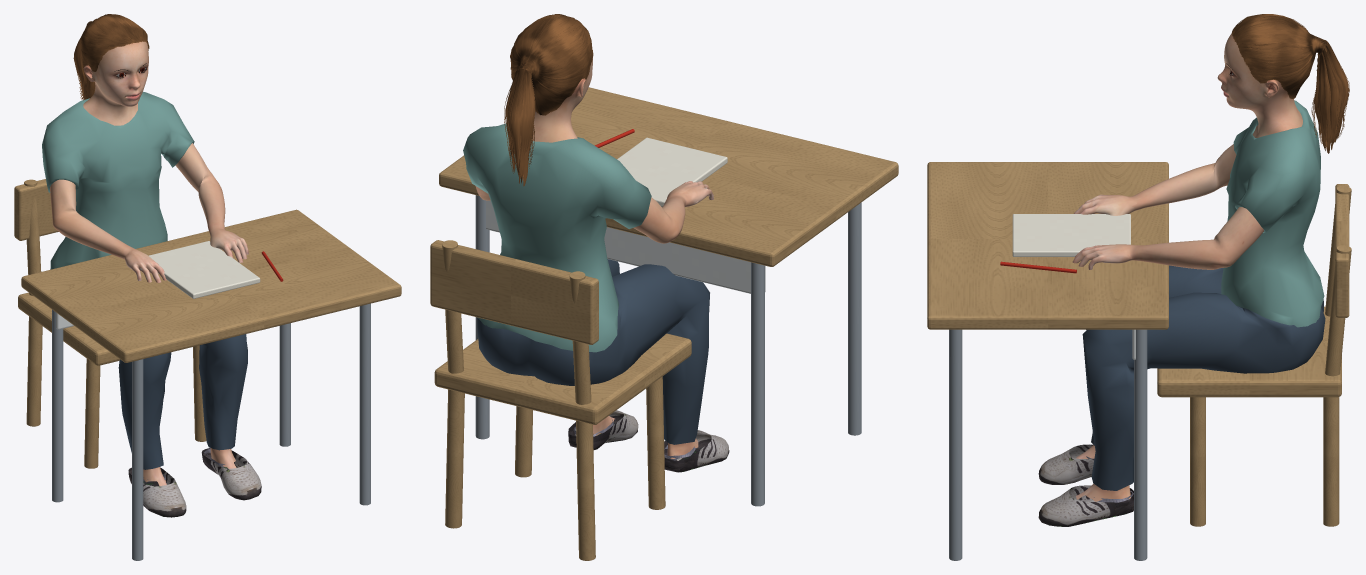
Rendered from leah-3d-person-child-age-10-seated-at-desk.glb.
3 views of the same model, side by side, from view 1: azimuth 30°, elevation 25°; view 2: azimuth 150°, elevation 25°; view 3: azimuth 270°, elevation 25° (orthographic). The views are drawn at different scales.
Parts seen in each view (by area): view 1: School desk | original rounded writing top, female_casualsuit01, Leah | anatomical body, School desk | exercise book, shoes05, ponytail01, School desk | steel leg, School desk | steel leg.002, School desk | steel leg.001, Child chair | rounded seat, Child chair | curved back panel, Child chair | timber leg (+4 smaller); view 2: female_casualsuit01, School desk | original rounded writing top, Child chair | curved back panel, Child chair | rounded seat, ponytail01, School desk | under-top apron, Leah | anatomical body, School desk | exercise book, School desk | steel leg.001, School desk | steel leg, shoes05, Child chair | timber leg.001 (+6 smaller); view 3: female_casualsuit01, School desk | original rounded writing top, Leah | anatomical body, ponytail01, Child chair | rounded seat, School desk | exercise book, shoes05, School desk | steel leg.002, School desk | steel leg.003, Child chair | timber leg.003, Child chair | timber leg.002, Child chair | curved back panel (+2 smaller).
Part boxes in pixels (x1=…): School desk | original rounded writing top: x1=21, y1=209, x2=401, y2=362; female_casualsuit01: x1=42, y1=91, x2=247, y2=469; Leah | anatomical body: x1=50, y1=41, x2=248, y2=485; School desk | exercise book: x1=149, y1=241, x2=260, y2=298; shoes05: x1=128, y1=448, x2=261, y2=517; ponytail01: x1=73, y1=14, x2=149, y2=100; School desk | steel leg: x1=132, y1=359, x2=143, y2=560; School desk | steel leg.002: x1=359, y1=303, x2=370, y2=505; School desk | steel leg.001: x1=52, y1=309, x2=63, y2=502; Child chair | rounded seat: x1=18, y1=292, x2=119, y2=365; Child chair | curved back panel: x1=14, y1=179, x2=58, y2=240; Child chair | timber leg: x1=84, y1=359, x2=100, y2=468; female_casualsuit01: x1=463, y1=123, x2=709, y2=444; School desk | original rounded writing top: x1=439, y1=87, x2=898, y2=266; Child chair | curved back panel: x1=430, y1=240, x2=598, y2=344; Child chair | rounded seat: x1=434, y1=333, x2=691, y2=424; ponytail01: x1=504, y1=14, x2=593, y2=186; School desk | under-top apron: x1=486, y1=200, x2=765, y2=293; Leah | anatomical body: x1=475, y1=58, x2=713, y2=458; School desk | exercise book: x1=617, y1=137, x2=727, y2=206; School desk | steel leg.001: x1=751, y1=262, x2=764, y2=506; School desk | steel leg: x1=848, y1=202, x2=861, y2=435; shoes05: x1=568, y1=410, x2=729, y2=472; Child chair | timber leg.001: x1=576, y1=420, x2=595, y2=560; female_casualsuit01: x1=1082, y1=100, x2=1325, y2=490; School desk | original rounded writing top: x1=927, y1=162, x2=1168, y2=329; Leah | anatomical body: x1=1072, y1=33, x2=1302, y2=501; ponytail01: x1=1232, y1=14, x2=1349, y2=153; Child chair | rounded seat: x1=1157, y1=306, x2=1341, y2=397; School desk | exercise book: x1=1012, y1=214, x2=1130, y2=256; shoes05: x1=1038, y1=444, x2=1133, y2=526; School desk | steel leg.002: x1=949, y1=329, x2=962, y2=560; School desk | steel leg.003: x1=1134, y1=329, x2=1147, y2=560; Child chair | timber leg.003: x1=1323, y1=397, x2=1339, y2=526; Child chair | timber leg.002: x1=1190, y1=397, x2=1205, y2=526; Child chair | curved back panel: x1=1335, y1=184, x2=1349, y2=317.
Size of the model in its own units: 0.78 by 1.13 by 0.8952.
Materials: 15 (15 with a texture image).
